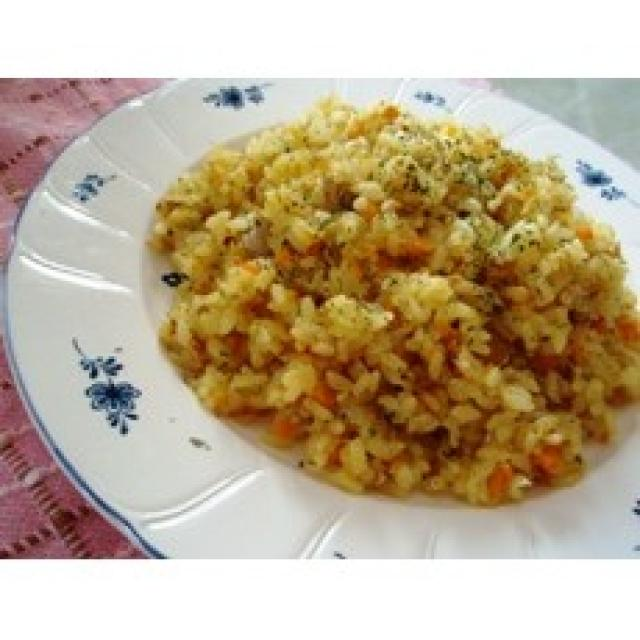米饭主食: (94, 81, 640, 526)
